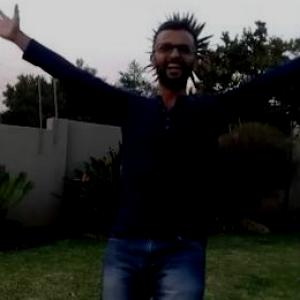takeoff: (6, 18, 299, 299)
